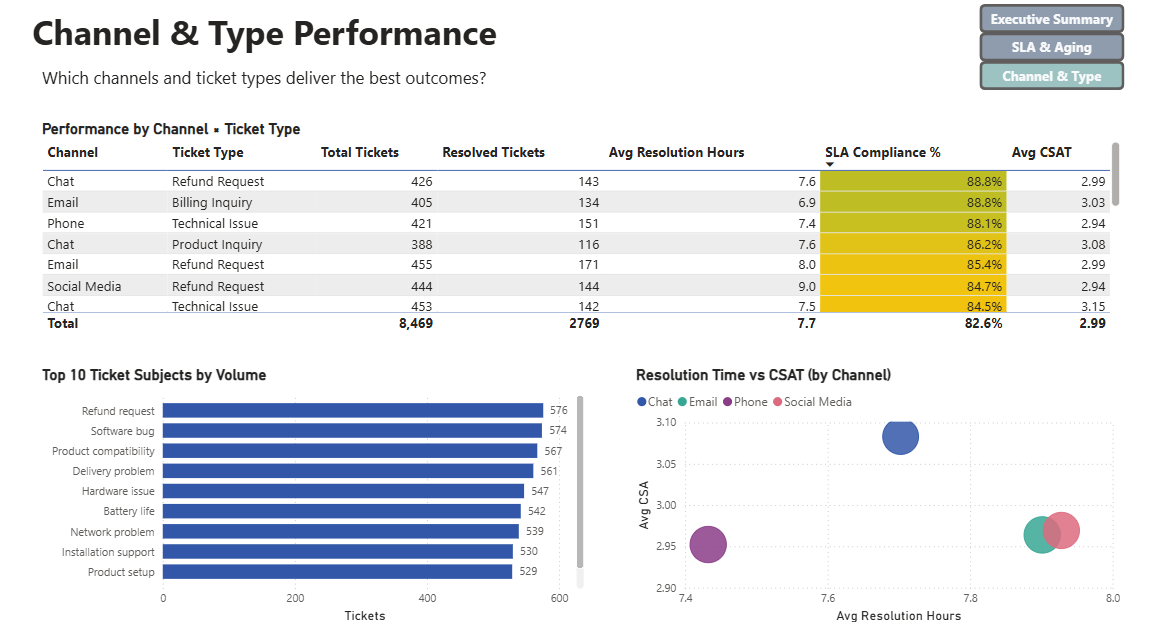

Layout of this report page (visuals, bound fields, positions):
{"tool":"powerbi","page":{"name":"Channel & Type Performance","canvas":[1280,720],"ordinal":2},"visuals":[{"type":"textbox","box":[16,16,896,64],"z":0},{"type":"textbox","box":[48,80,864,48],"z":1000},{"type":"tableEx","title":"Performance by Channel × Ticket Type","fields":{"Values":["tickets_clean.ticket_channel","tickets_clean.ticket_type","_Measures.Total Tickets","_Measures.Resolved Tickets","_Measures.Avg Resolution Hours","_Measures.SLA Compliance %","_Measures.Avg CSAT"]},"box":[48,144,1200,240],"z":2000},{"type":"actionButton","box":[0,0,16,16],"z":3000},{"type":"clusteredBarChart","title":"Top 10 Ticket Subjects by Volume","fields":{"Category":["tickets_clean.ticket_subject"],"Y":["_Measures.Total Tickets"]},"box":[48,416,608,288],"z":4000},{"type":"scatterChart","title":"Resolution Time vs CSAT (by Channel)","fields":{"X":["_Measures.Avg Resolution Hours"],"Y":["_Measures.Avg CSAT"],"Category":["tickets_clean.ticket_channel"],"Size":["_Measures.Total Tickets"],"Series":["tickets_clean.ticket_channel"]},"box":[704,416,544,288],"z":5000},{"type":"actionButton","box":[1088,16,160,32],"z":6000},{"type":"actionButton","box":[1088,48,160,32],"z":7000},{"type":"actionButton","box":[1088,80,160,32],"z":8000}]}

Visuals, with their boxes in screenshot pixels (x1, y1, x2, y2), scaled from the page's 1280x720 canvas onto the 1152x639 screenshot:
textbox: 14,14,821,71
textbox: 43,71,821,114
"Performance by Channel × Ticket Type" tableEx: 43,128,1123,341
actionButton: 0,0,14,14
"Top 10 Ticket Subjects by Volume" clusteredBarChart: 43,369,590,625
"Resolution Time vs CSAT (by Channel)" scatterChart: 634,369,1123,625
actionButton: 979,14,1123,43
actionButton: 979,43,1123,71
actionButton: 979,71,1123,99
